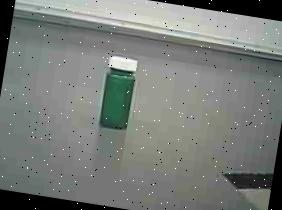Bottle C: (84, 48, 148, 141)
